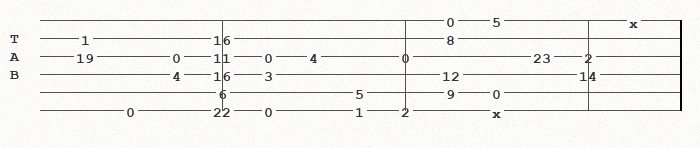0: (126, 104, 139, 117), (172, 50, 185, 63), (264, 50, 277, 63), (264, 104, 277, 117), (401, 50, 414, 63), (446, 14, 459, 27), (492, 86, 505, 99)
1: (81, 32, 94, 45), (355, 104, 368, 117)
11: (213, 50, 235, 63)
12: (442, 68, 464, 81)
14: (579, 68, 601, 81)
16: (213, 68, 235, 81), (213, 32, 235, 45)
19: (76, 50, 98, 63)
2: (401, 104, 414, 117), (584, 50, 597, 63)
22: (213, 104, 235, 117)
23: (533, 50, 555, 63)
3: (264, 68, 277, 81)
4: (172, 68, 185, 81), (309, 50, 322, 63)
5: (355, 86, 368, 99), (492, 14, 505, 27)
6: (218, 86, 231, 99)
8: (446, 32, 459, 45)
9: (446, 86, 459, 99)
x: (492, 105, 505, 115), (629, 15, 642, 25)
